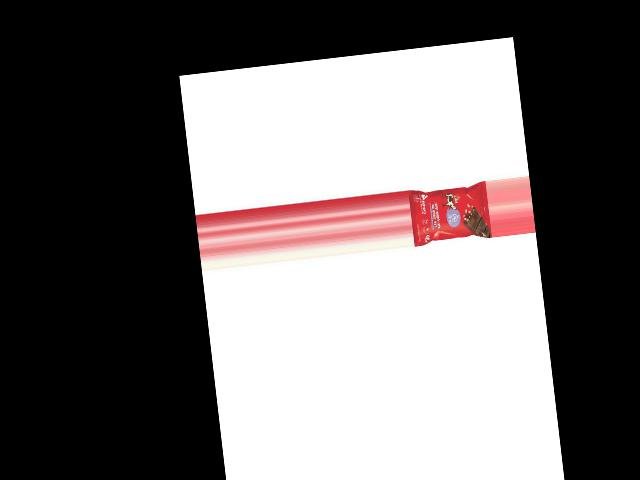chocolate: (407, 183, 491, 247)
